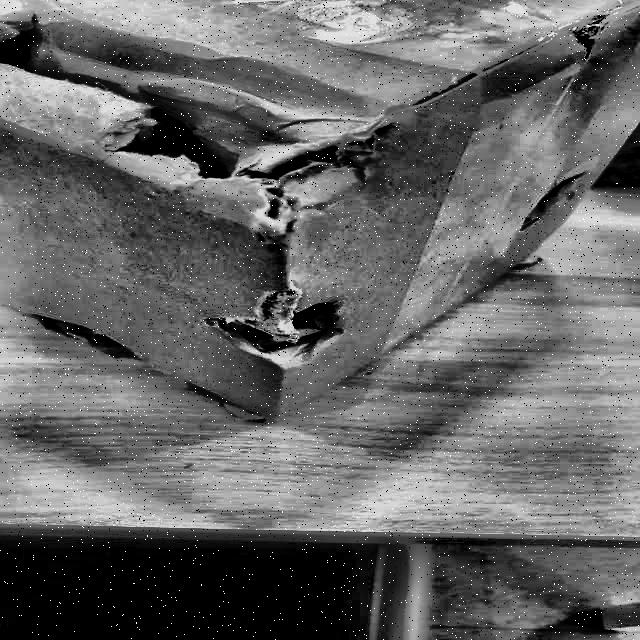box: (0, 0, 640, 428)
hole: (105, 88, 381, 190), (201, 272, 355, 366), (503, 168, 587, 244), (35, 310, 137, 364), (0, 13, 57, 84)
